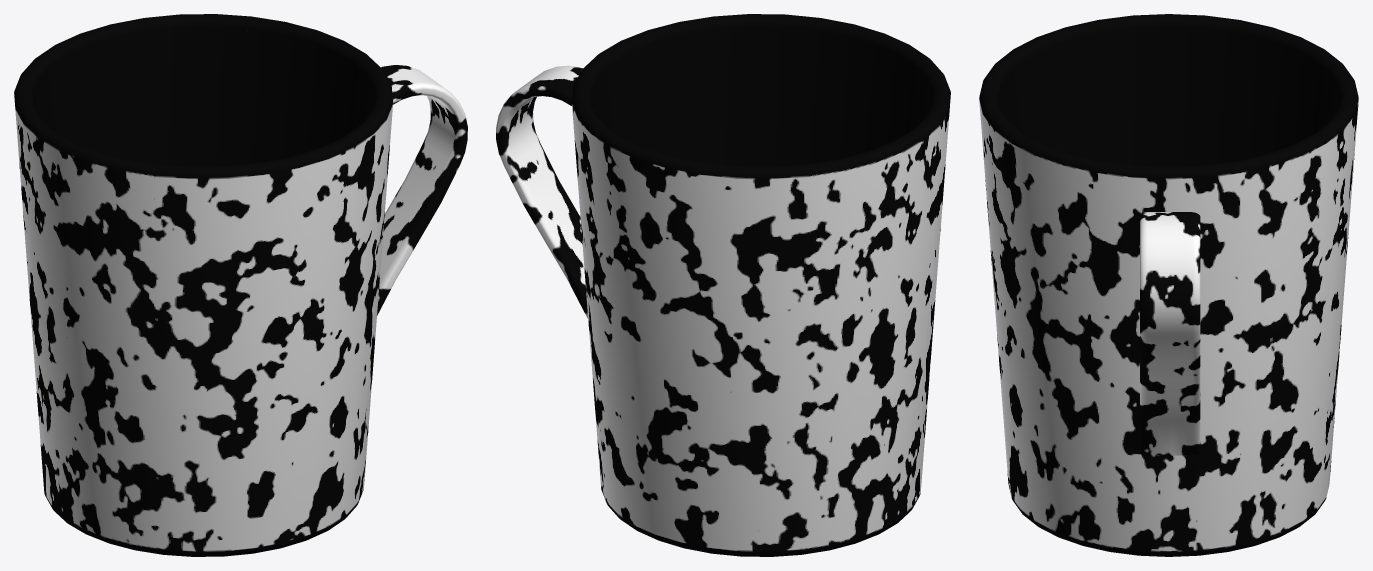
Rendered from Cup.fbx.
3 renders of one model, left to right at view 1: azimuth 30°, elevation 25°; view 2: azimuth 150°, elevation 25°; view 3: azimuth 270°, elevation 25°, orthographic.
Visible parts, largest first — view 1: Cup; view 2: Cup; view 3: Cup.
Boxes of the visible parts, left/top/right/bottom form: Cup: left=14, top=14, right=467, bottom=556; Cup: left=496, top=14, right=950, bottom=556; Cup: left=979, top=14, right=1358, bottom=556.
Bounding box in the file's own units: 0.2159 × 0.1706 × 0.1987.
